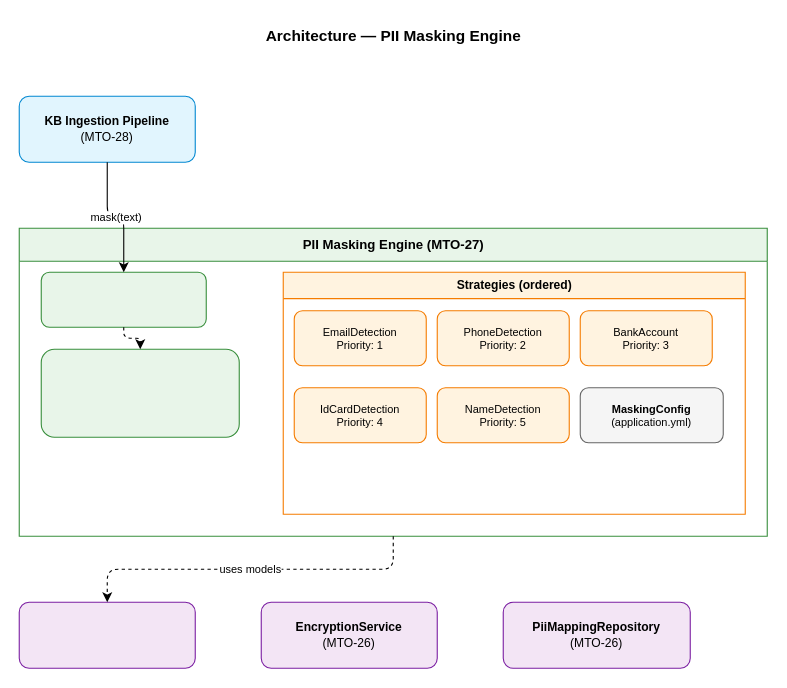
This 787x688 diagram has some shape labels left out. Here are the shapes that lost their labels. From the top down, the centre of each, then its label:
At (x=123, y=299): "PiiMaskingEngine (Interface)".
At (x=139, y=392): "PiiMaskingEngineImpl - collectMatches() - removeOverlaps() - buildResult()".
At (x=106, y=634): "MTO-26 Models PiiType, PiiMapping".
